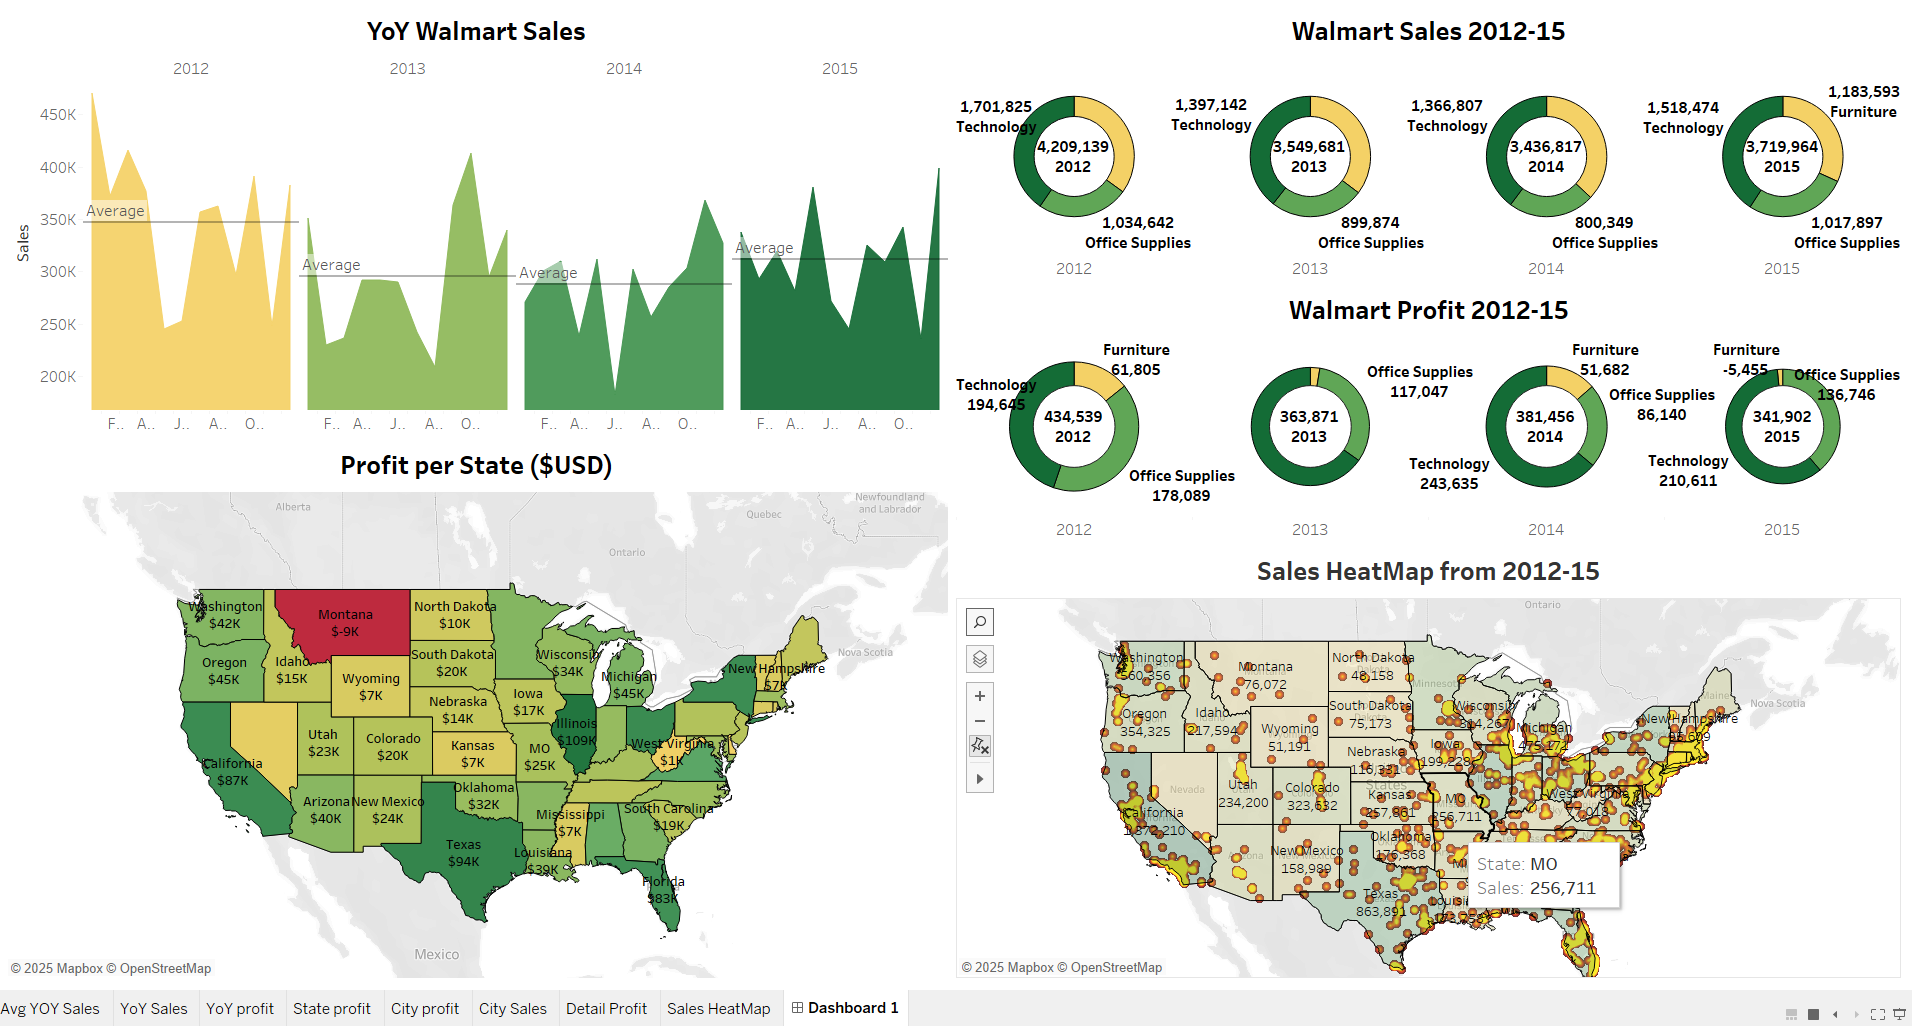

This screenshot's page, from the dashboard's own definition file:
{"tool":"tableau","page":{"name":"Dashboard 1","canvas":[1000,1000],"units":"permille","ordinal":0},"visuals":[{"type":"worksheet","title":"Avg YOY Sales","mark":"Area","rows":["Sales"],"cols":["Ship Date","Ship Date"],"box":[4.8,10,494.8,541.8]},{"type":"worksheet","title":"YoY Sales","mark":"Pie","rows":["Number of Records","Number of Records"],"cols":["Order Date"],"box":[499.6,10,495.6,279.6]},{"type":"worksheet","title":"YoY profit","mark":"Pie","rows":["Number of Records","Number of Records"],"cols":["Order Date"],"box":[499.6,289.6,495.6,262.2]},{"type":"worksheet","title":"State profit","mark":"Automatic","box":[4.8,551.8,494.8,438.2]},{"type":"worksheet","title":"Sales HeatMap","mark":"Heatmap","box":[499.6,551.8,495.6,438.2]}]}

Visuals, with their boxes on the dashboard's canvas, which has no fixed pixel size, in thousandths of its width and height (x1, y1, x2, y2). These are canvas units, not pixel positions in the 1912x1026 screenshot, which may show the page scaled, cropped or inside an application window:
"Avg YOY Sales" worksheet (Area marks): [x1=5, y1=10, x2=500, y2=552]
"YoY Sales" worksheet (Pie marks): [x1=500, y1=10, x2=995, y2=290]
"YoY profit" worksheet (Pie marks): [x1=500, y1=290, x2=995, y2=552]
"State profit" worksheet: [x1=5, y1=552, x2=500, y2=990]
"Sales HeatMap" worksheet (Heatmap marks): [x1=500, y1=552, x2=995, y2=990]
